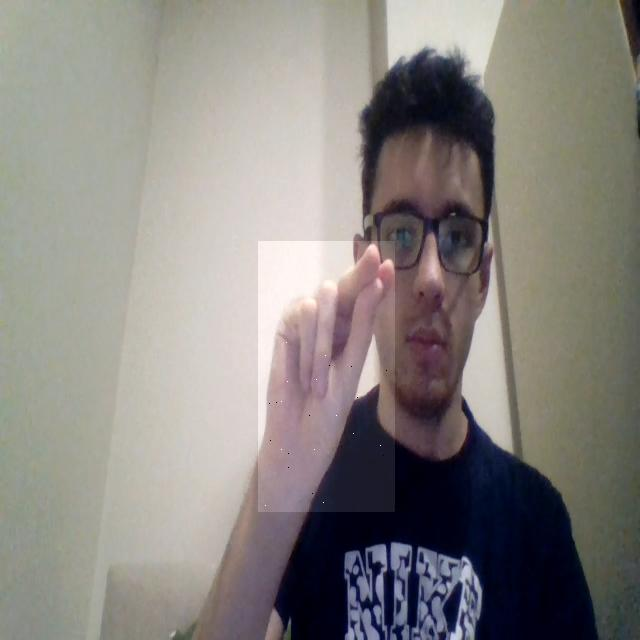no: (258, 241, 395, 512)
